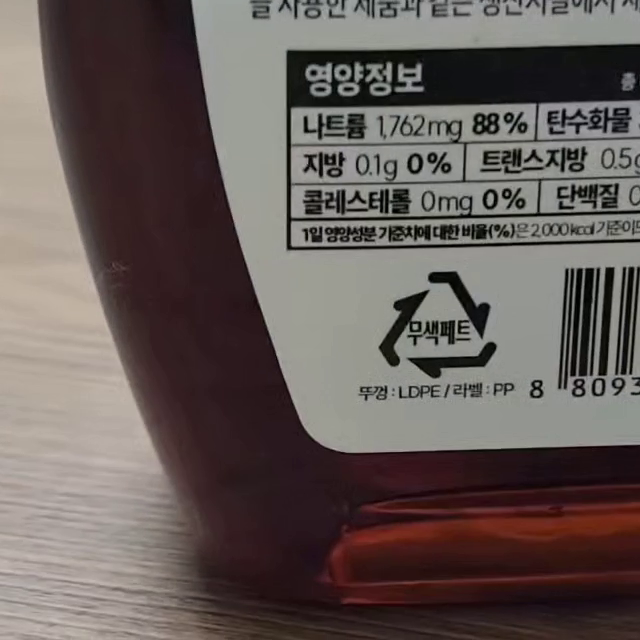ColorlessPet: (376, 268, 496, 379)
